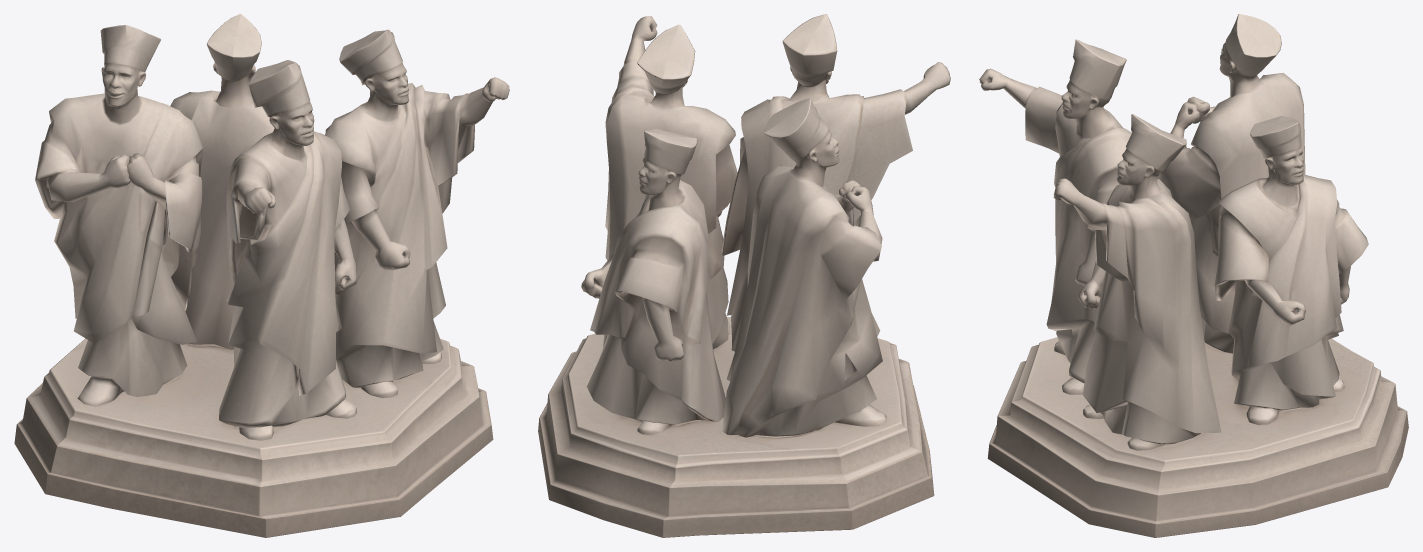
Rendered from stone+statue+group+3d+model.fbx.
3 views of the same model, side by side, from view 1: azimuth 30°, elevation 25°; view 2: azimuth 150°, elevation 25°; view 3: azimuth 270°, elevation 25° (orthographic). The views are drawn at different scales.
Visible parts, largest first — view 1: tripo_2caf096a_b003_4f73_80c0_edce4dea4b91; view 2: tripo_2caf096a_b003_4f73_80c0_edce4dea4b91; view 3: tripo_2caf096a_b003_4f73_80c0_edce4dea4b91.
Part boxes in pixels (x1=…): tripo_2caf096a_b003_4f73_80c0_edce4dea4b91: x1=14, y1=14, x2=509, y2=537; tripo_2caf096a_b003_4f73_80c0_edce4dea4b91: x1=538, y1=14, x2=950, y2=537; tripo_2caf096a_b003_4f73_80c0_edce4dea4b91: x1=979, y1=14, x2=1408, y2=537.
Size of the model in its own units: 0.9995 by 0.9751 by 0.9702.
